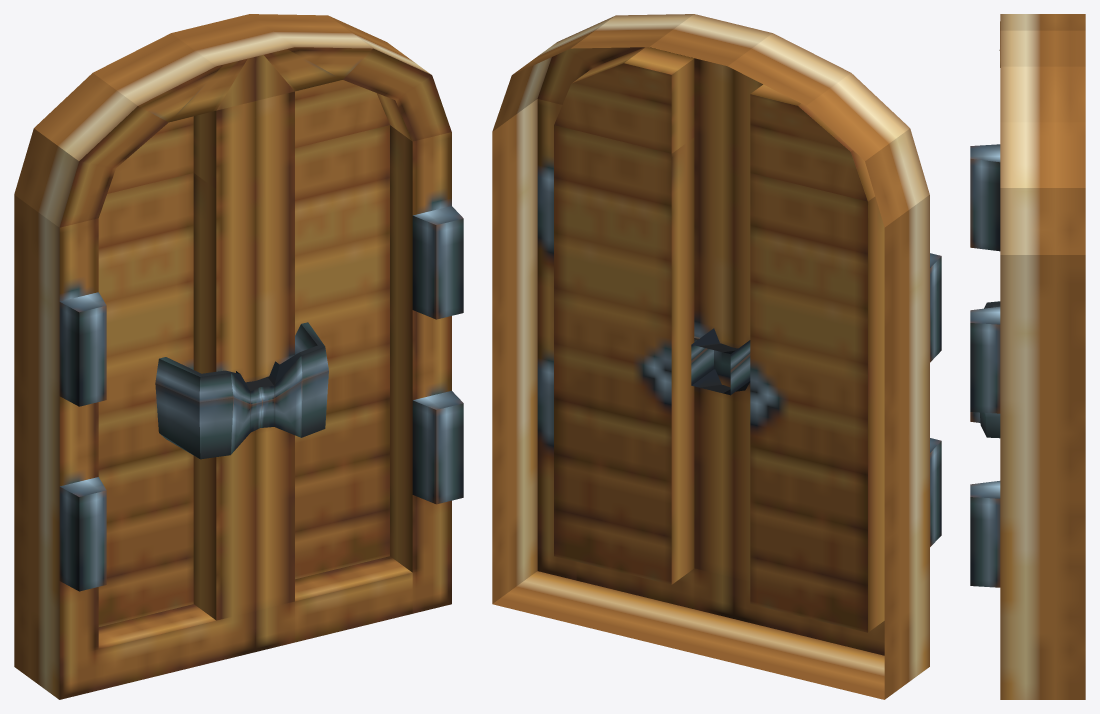
The model's file is Poly_Window_09.obj.
3 renders of one model, left to right at view 1: azimuth 30°, elevation 25°; view 2: azimuth 150°, elevation 25°; view 3: azimuth 270°, elevation 25°, orthographic. The views are drawn at different scales.
Visible parts, largest first — view 1: Cube.001_Cube.003, Cylinder, Torus.001; view 2: Cube.001_Cube.003, Torus.001, Cylinder; view 3: Cube.001_Cube.003, Cylinder, Torus.001.
Boxes of the visible parts, x1,y1,x2,y2 form: Cube.001_Cube.003: [14, 14, 451, 699]; Cylinder: [59, 206, 463, 591]; Torus.001: [155, 322, 328, 459]; Cube.001_Cube.003: [492, 14, 929, 699]; Torus.001: [691, 328, 750, 395]; Cylinder: [930, 253, 941, 546]; Cube.001_Cube.003: [999, 14, 1085, 699]; Cylinder: [970, 144, 1000, 587]; Torus.001: [979, 301, 1000, 438].
Bounding box in the file's own units: 1 × 1.45 × 0.27.
1 material, 1 textured.
